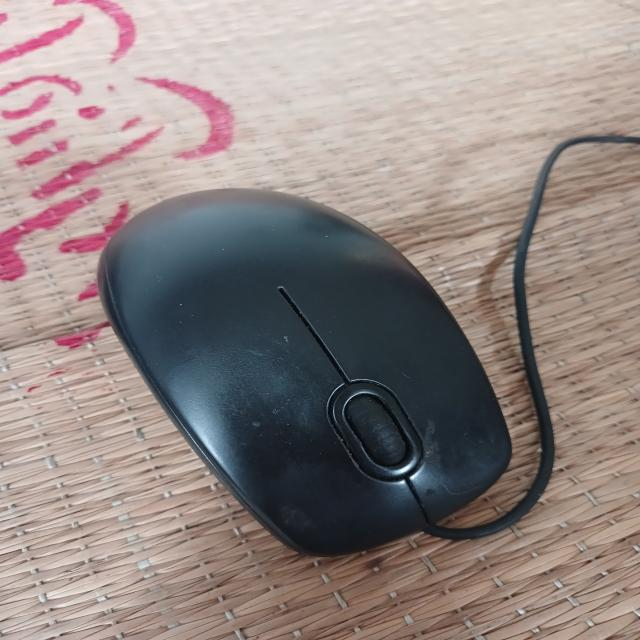mouse: (96, 182, 515, 569)
